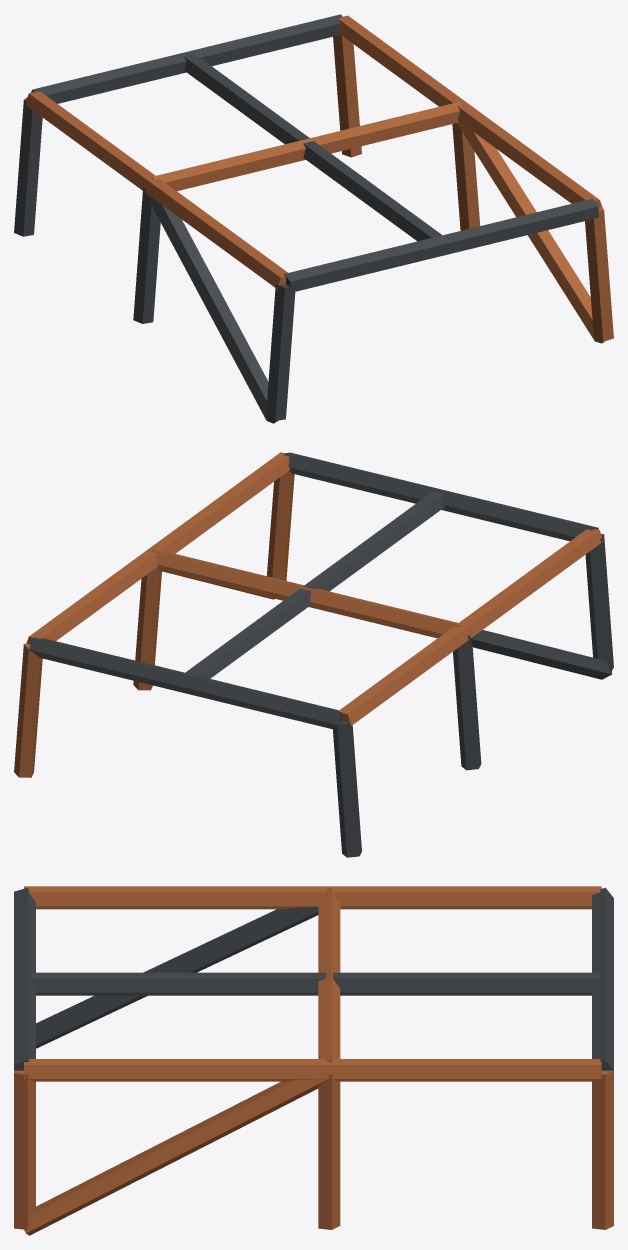
The model's file is upg_cage_t0.glb.
The picture shows the model from 3 angles, top to bottom: view 1: azimuth 30°, elevation 25°; view 2: azimuth 150°, elevation 25°; view 3: azimuth 270°, elevation 25°; orthographic projection. The views are drawn at different scales.
Parts seen in each view (by area): view 1: cage; view 2: cage; view 3: cage.
Part boxes in pixels (x1=…): cage: x1=14, y1=14, x2=613, y2=423; cage: x1=14, y1=452, x2=613, y2=857; cage: x1=14, y1=886, x2=613, y2=1235.
Size of the model in its own units: 1.05 by 0.4312 by 1.38.
